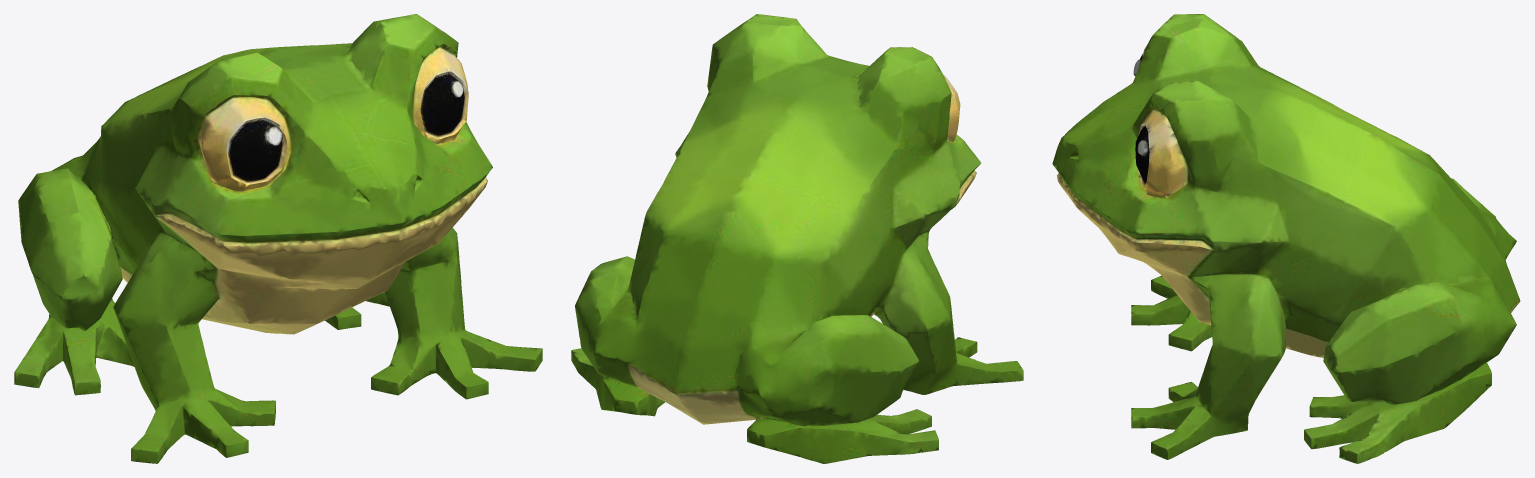
3 views of the same model, side by side, from view 1: azimuth 30°, elevation 25°; view 2: azimuth 150°, elevation 25°; view 3: azimuth 270°, elevation 25° (orthographic). The views are drawn at different scales.
Bounding box in the file's own units: 1.77 × 1.43 × 1.9.
1 material, 1 textured.
